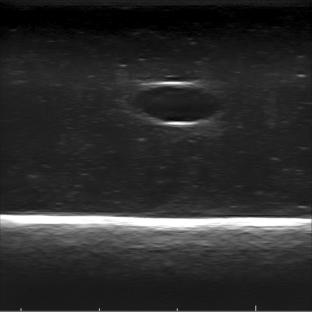vessel: (128, 81, 224, 128)
